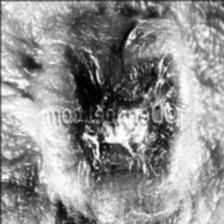Potentially Malignant Skin Tumors: (42, 5, 192, 101), (33, 128, 186, 206)
